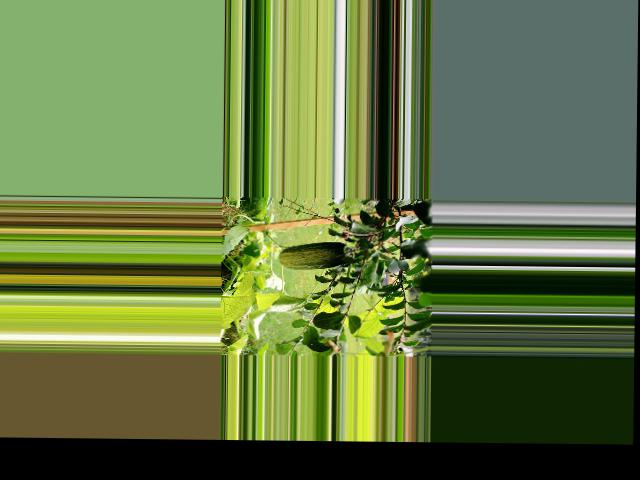cucumber: (278, 240, 354, 269)
